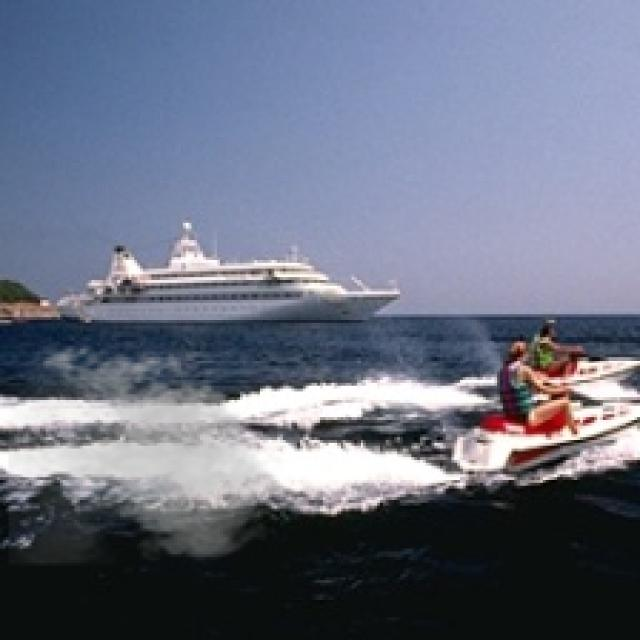smoke: (8, 340, 288, 566)
